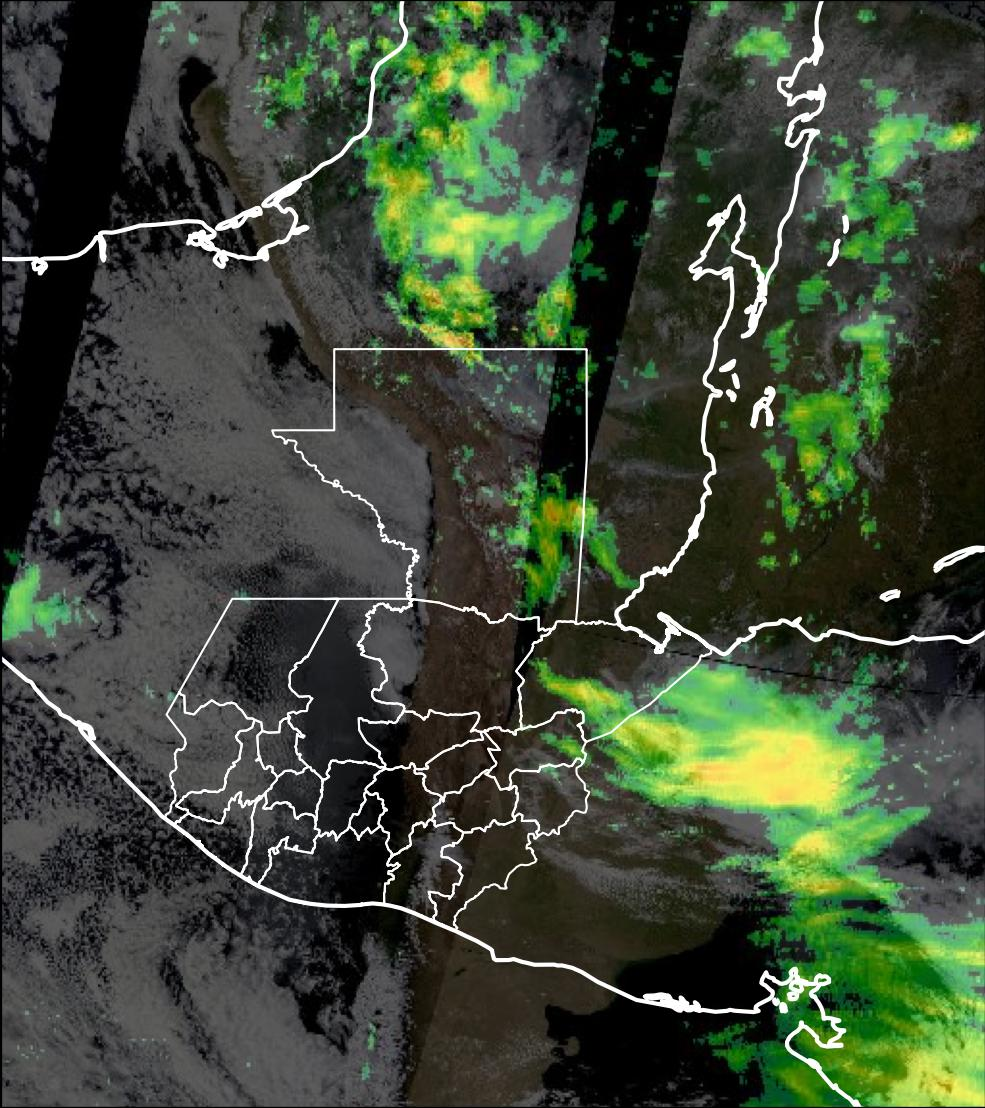precipitacion: (673, 705, 833, 833)
